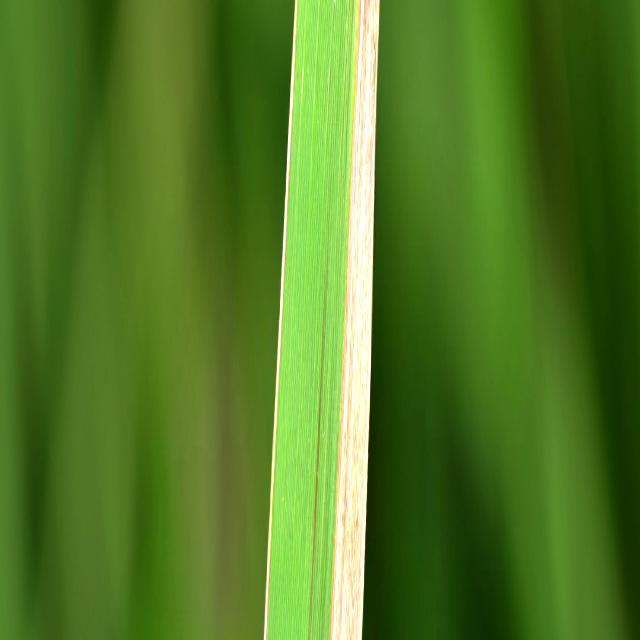BLB: (330, 0, 380, 640)
